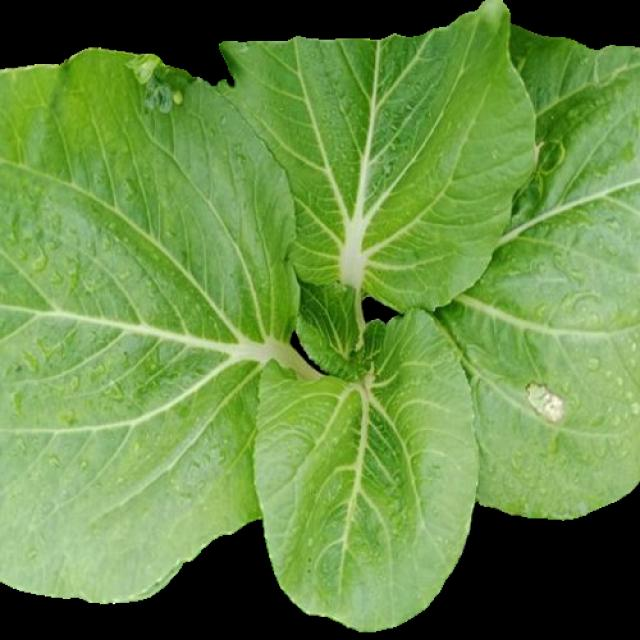mature: (1, 1, 640, 630)
unhealthy: (1, 2, 640, 632), (439, 26, 635, 517)
